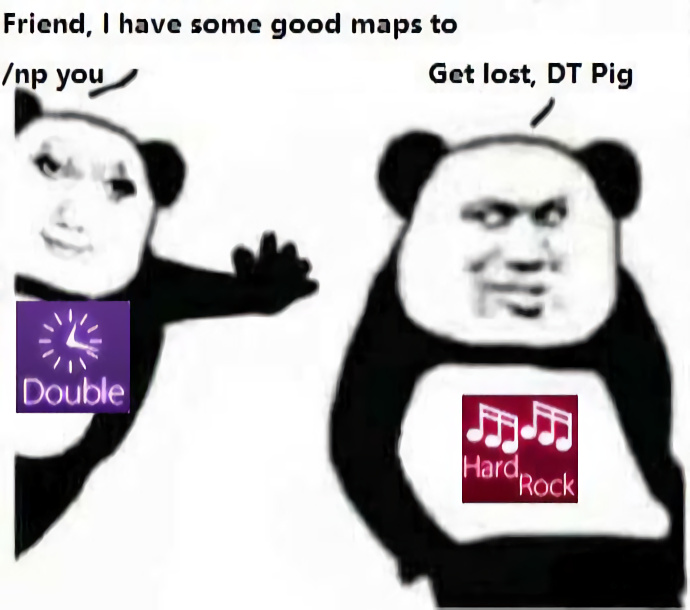dragon: (28, 146, 135, 275)
